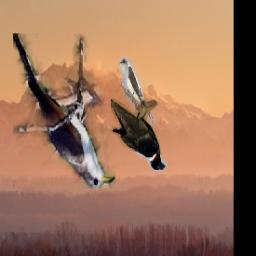Crow: (111, 99, 167, 172)
Cuckoo: (13, 34, 115, 189), (118, 59, 155, 126)
